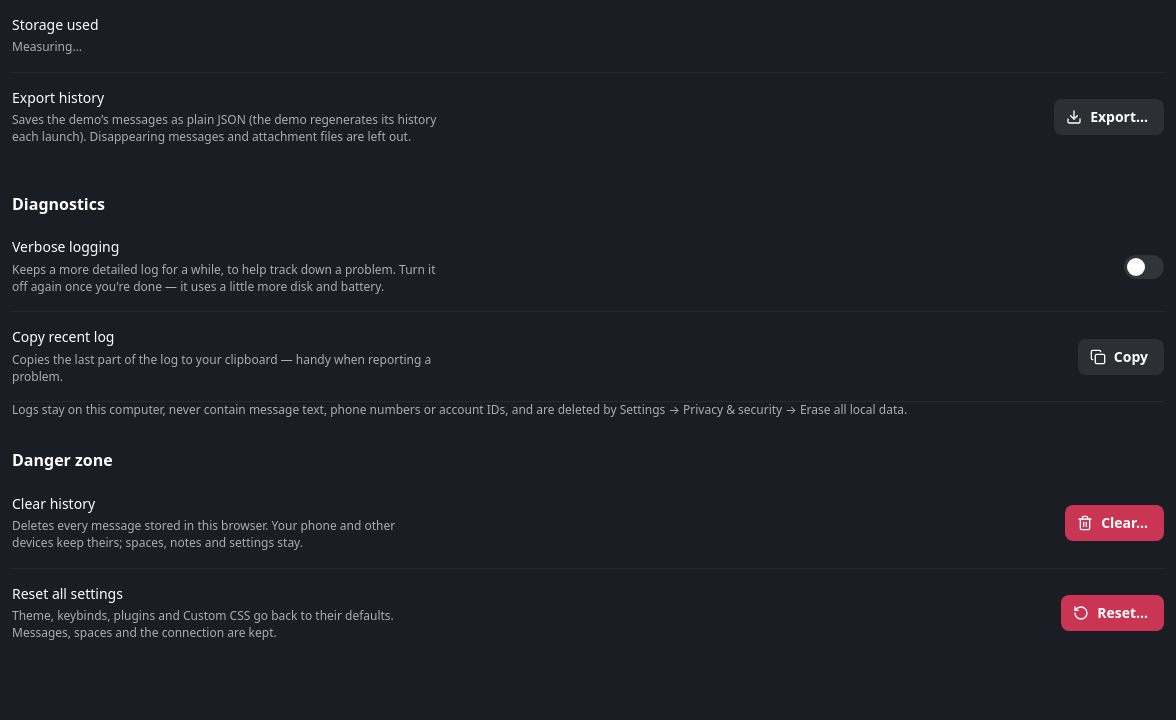
Settings → Data & storage → Diagnostics › shows a quiet error note when the clipboard write fails
Click the button "Copy" at (1121, 357), box [1078,339,1164,375]
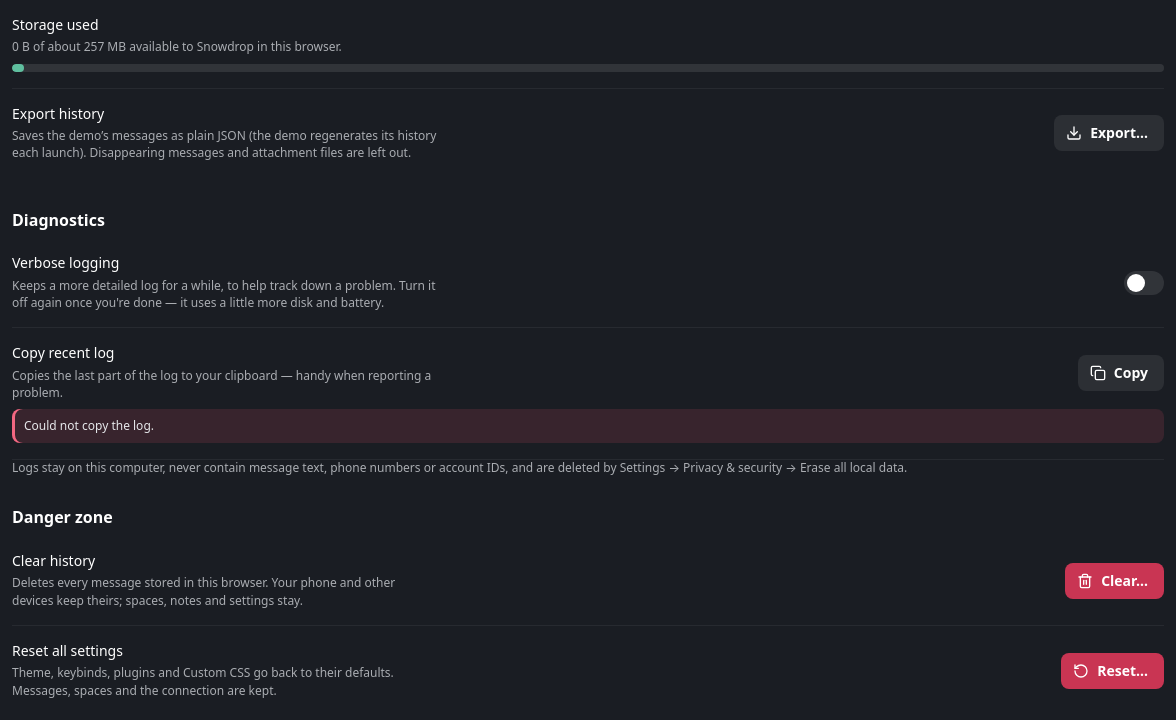
Expected: the text "Could not copy the log." is shown, [12,409,1164,443]
